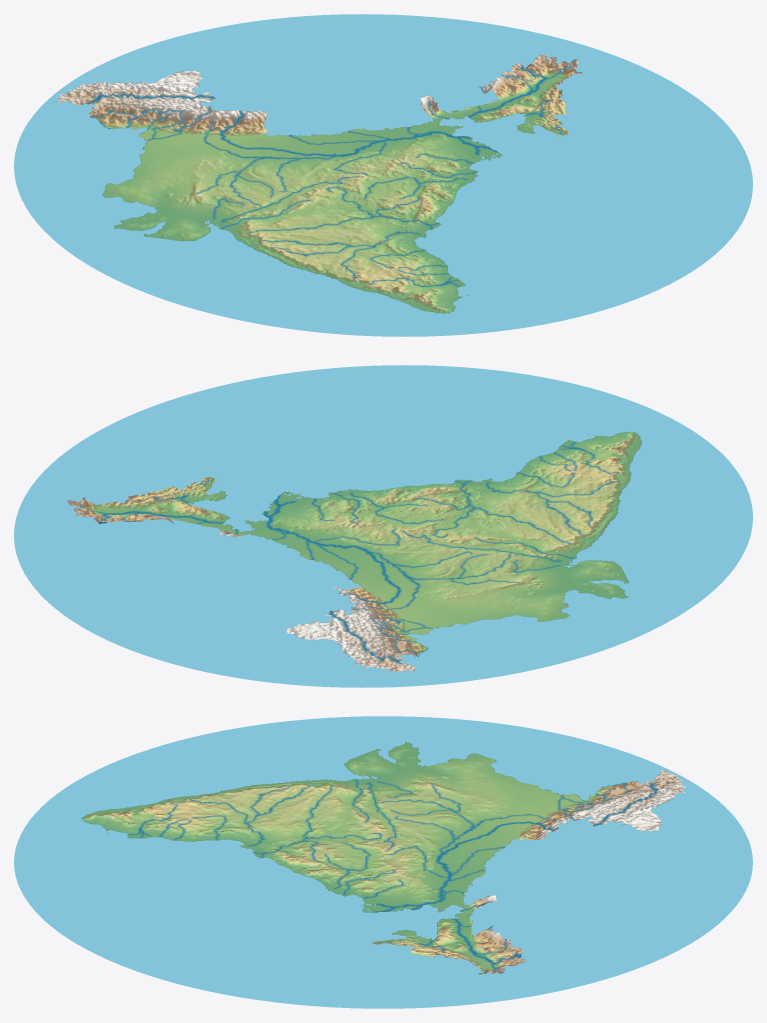
File: IND-terrain.glb
3 renders of one model, top to bottom at view 1: azimuth 30°, elevation 25°; view 2: azimuth 150°, elevation 25°; view 3: azimuth 270°, elevation 25°, orthographic. The views are drawn at different scales.
Visible parts, largest first — view 1: Relevo com hidrografia; view 2: Relevo com hidrografia; view 3: Relevo com hidrografia.
Part boxes in pixels (box(x1,y1,x2,y2)): Relevo com hidrografia: box(14, 14, 752, 336); Relevo com hidrografia: box(14, 365, 752, 687); Relevo com hidrografia: box(14, 716, 752, 1008).
Size of the model in its own units: 1.84 by 0.0355 by 1.97.
2 materials, 1 textured.
